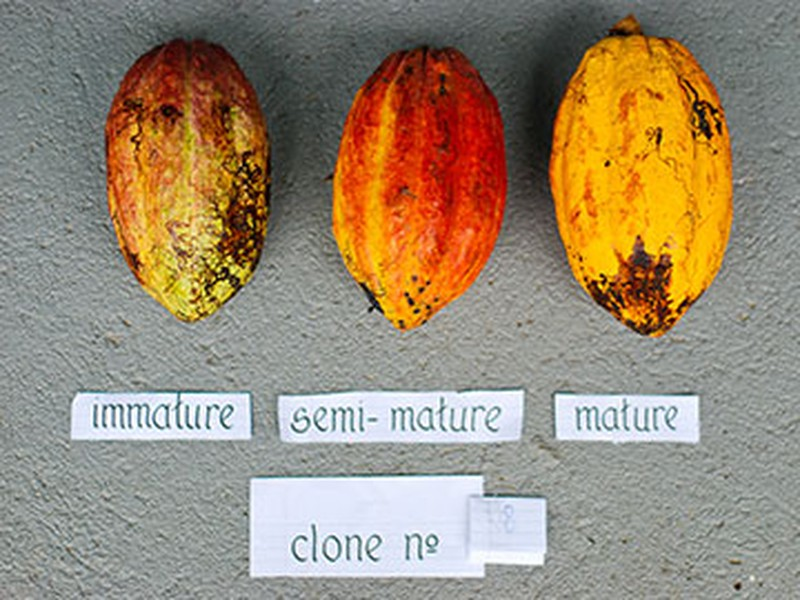Cacaopod: (546, 11, 731, 339), (333, 41, 509, 336), (97, 36, 274, 322)
